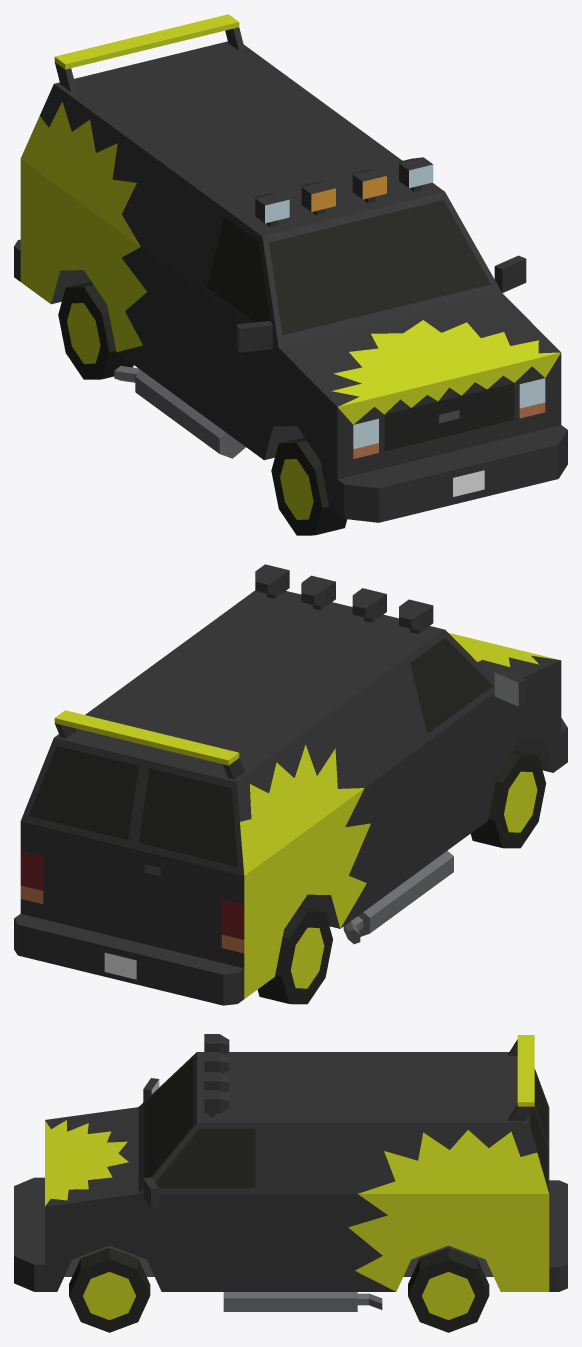
Rendered from Veh_Van_02_Green.glb.
The picture shows the model from 3 angles, top to bottom: view 1: azimuth 30°, elevation 25°; view 2: azimuth 150°, elevation 25°; view 3: azimuth 270°, elevation 25°; orthographic projection. The views are drawn at different scales.
Visible parts, largest first — view 1: Van_02_Green, Wheel_FR, Wheel_RR; view 2: Van_02_Green, Wheel_RR, Wheel_FR; view 3: Van_02_Green, Wheel_RL, Wheel_FL.
Boxes of the visible parts, x1=… form: Van_02_Green: x1=14, y1=14, x2=567, y2=522; Wheel_FR: x1=271, y1=437, x2=347, y2=535; Wheel_RR: x1=58, y1=281, x2=133, y2=379; Van_02_Green: x1=14, y1=564, x2=567, y2=1005; Wheel_RR: x1=257, y1=906, x2=332, y2=1004; Wheel_FR: x1=470, y1=750, x2=545, y2=848; Van_02_Green: x1=14, y1=1034, x2=567, y2=1311; Wheel_RL: x1=408, y1=1247, x2=489, y2=1332; Wheel_FL: x1=69, y1=1247, x2=150, y2=1332.
Bounding box in the file's own units: 1.38 × 1.28 × 2.89.
1 material, 1 textured.
